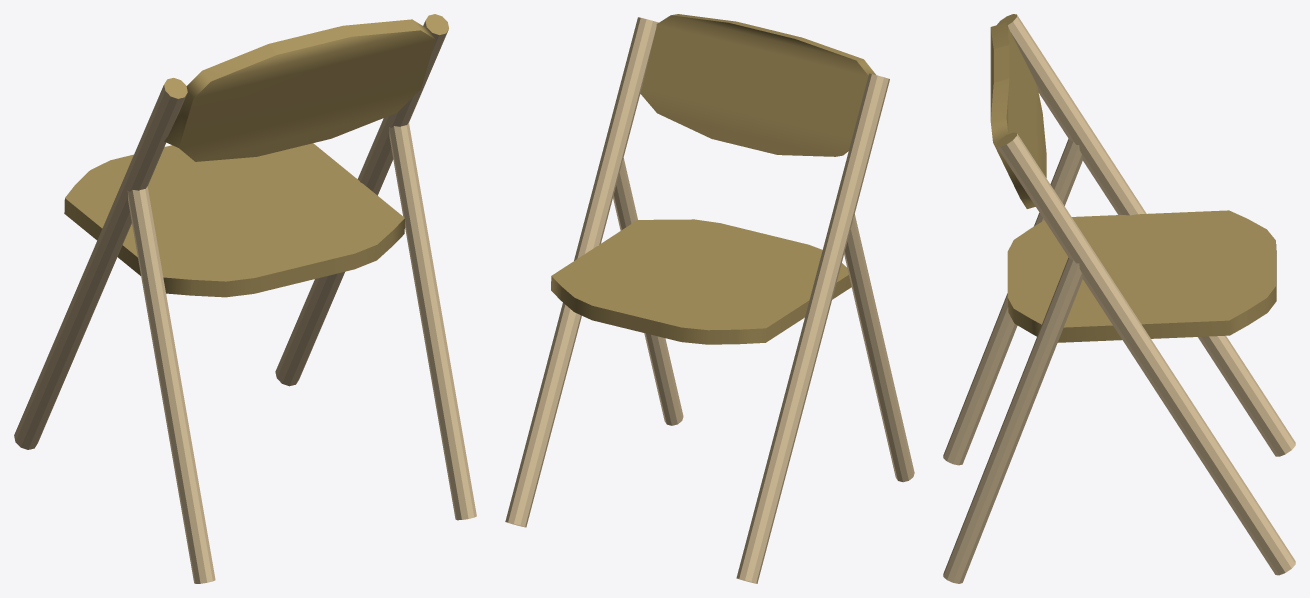
The model's file is WoodChair.fbx.
The picture shows the model from 3 angles, left to right: view 1: azimuth 30°, elevation 25°; view 2: azimuth 150°, elevation 25°; view 3: azimuth 270°, elevation 25°; orthographic projection. The views are drawn at different scales.
Parts seen in each view (by area): view 1: FoldingChair2; view 2: FoldingChair2; view 3: FoldingChair2.
Boxes of the visible parts, x1,y1,x2,y2 form: FoldingChair2: (14, 14, 476, 583); FoldingChair2: (505, 14, 914, 583); FoldingChair2: (943, 14, 1295, 583).
Size of the model in its own units: 1.63 by 2.74 by 1.9.
